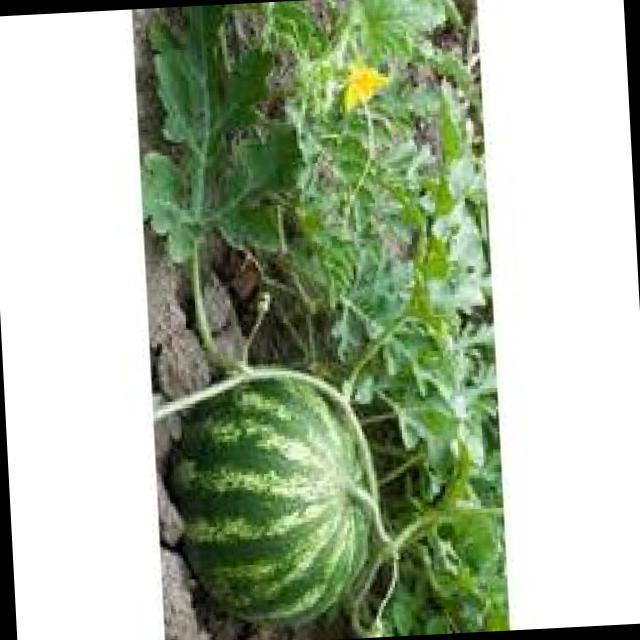watermelon: (168, 368, 384, 625)
